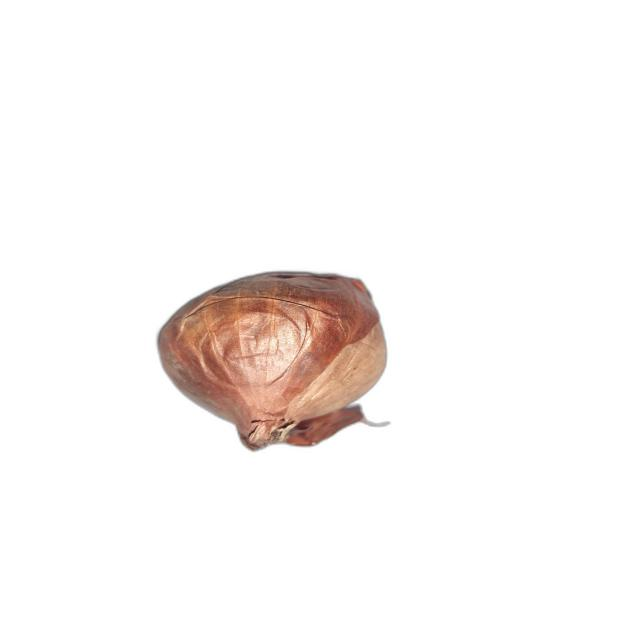onion: (156, 270, 392, 451)
